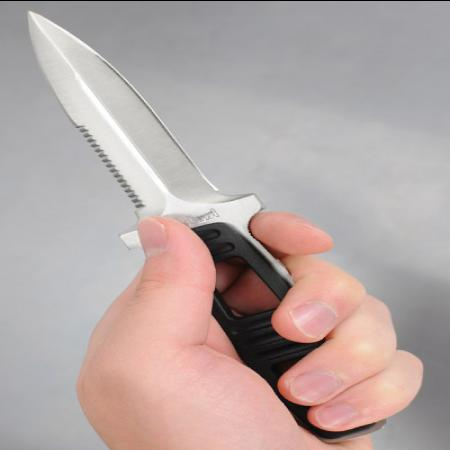long weapon: (16, 6, 388, 430)
